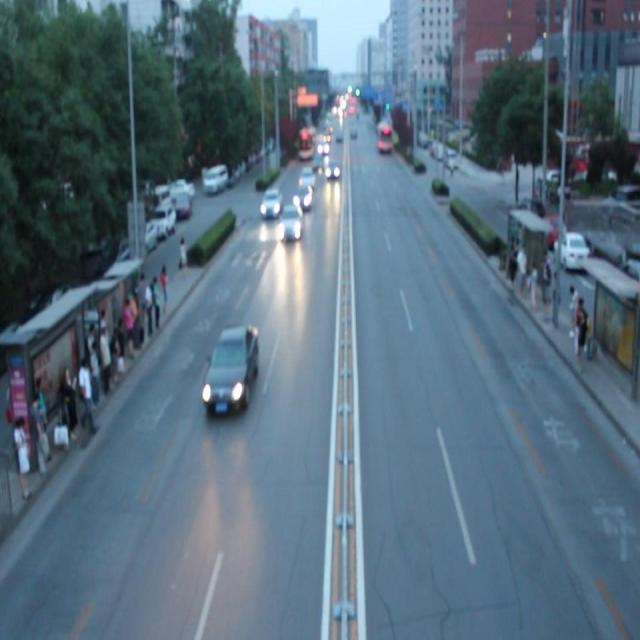car: (202, 322, 258, 414), (280, 204, 302, 244), (260, 188, 281, 217), (292, 186, 312, 211), (298, 167, 315, 192), (311, 155, 325, 177), (325, 162, 339, 180)
